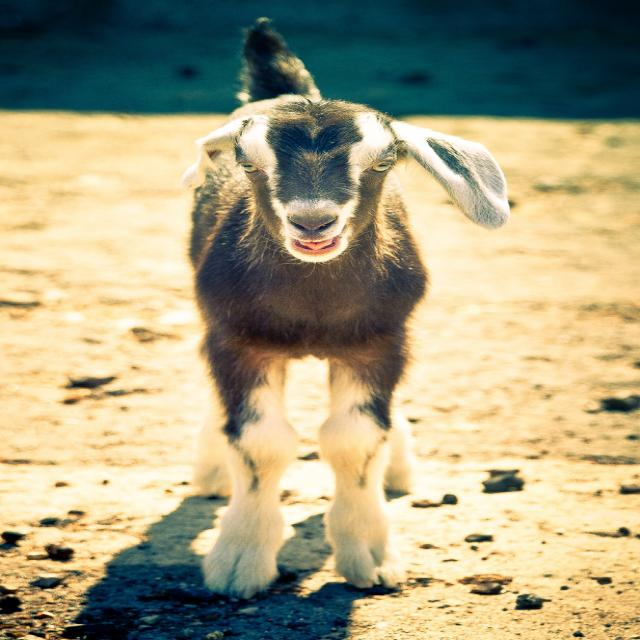Goat: (162, 49, 511, 610)
